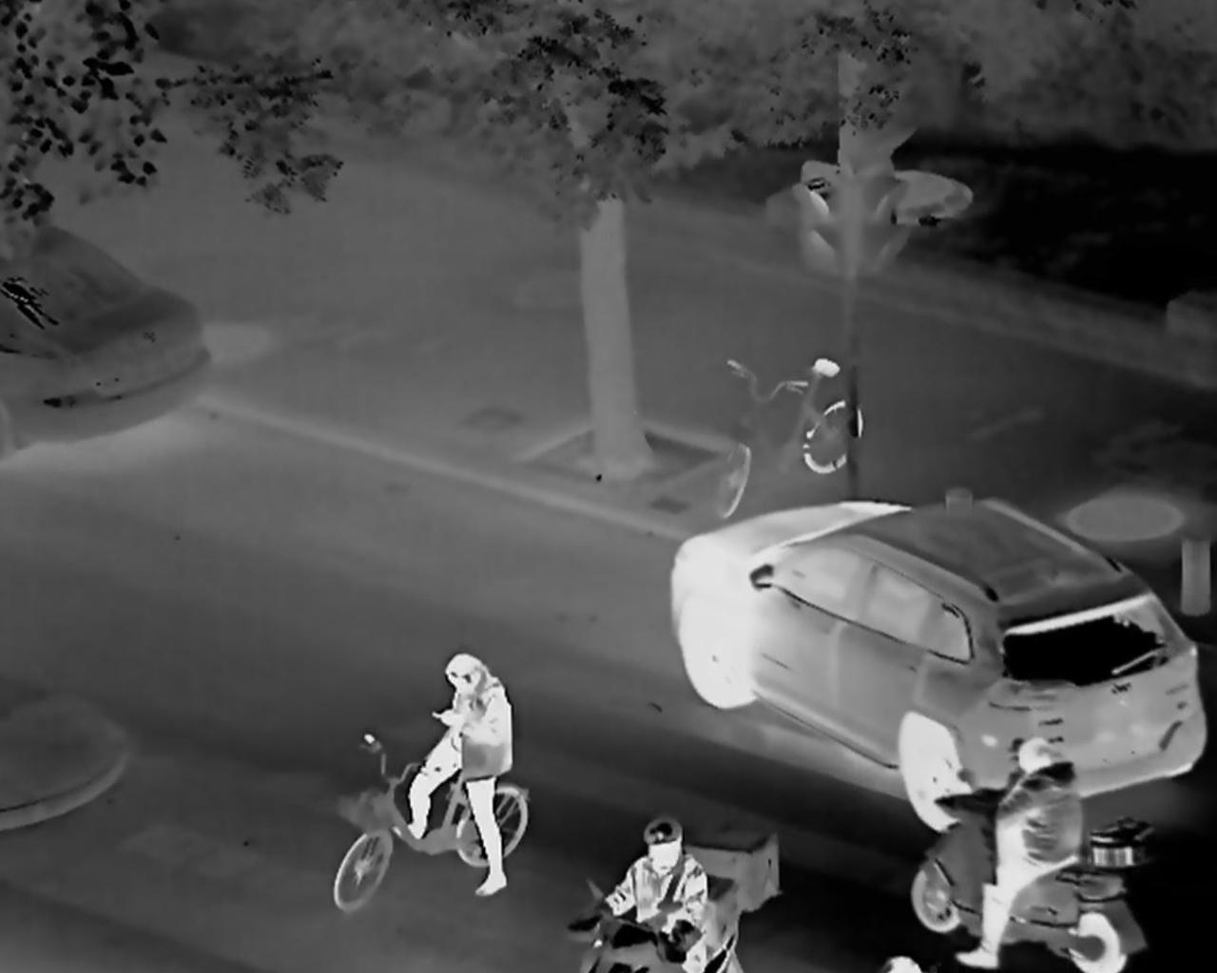person: (959, 737, 1087, 973), (393, 653, 514, 897), (586, 818, 707, 973)
